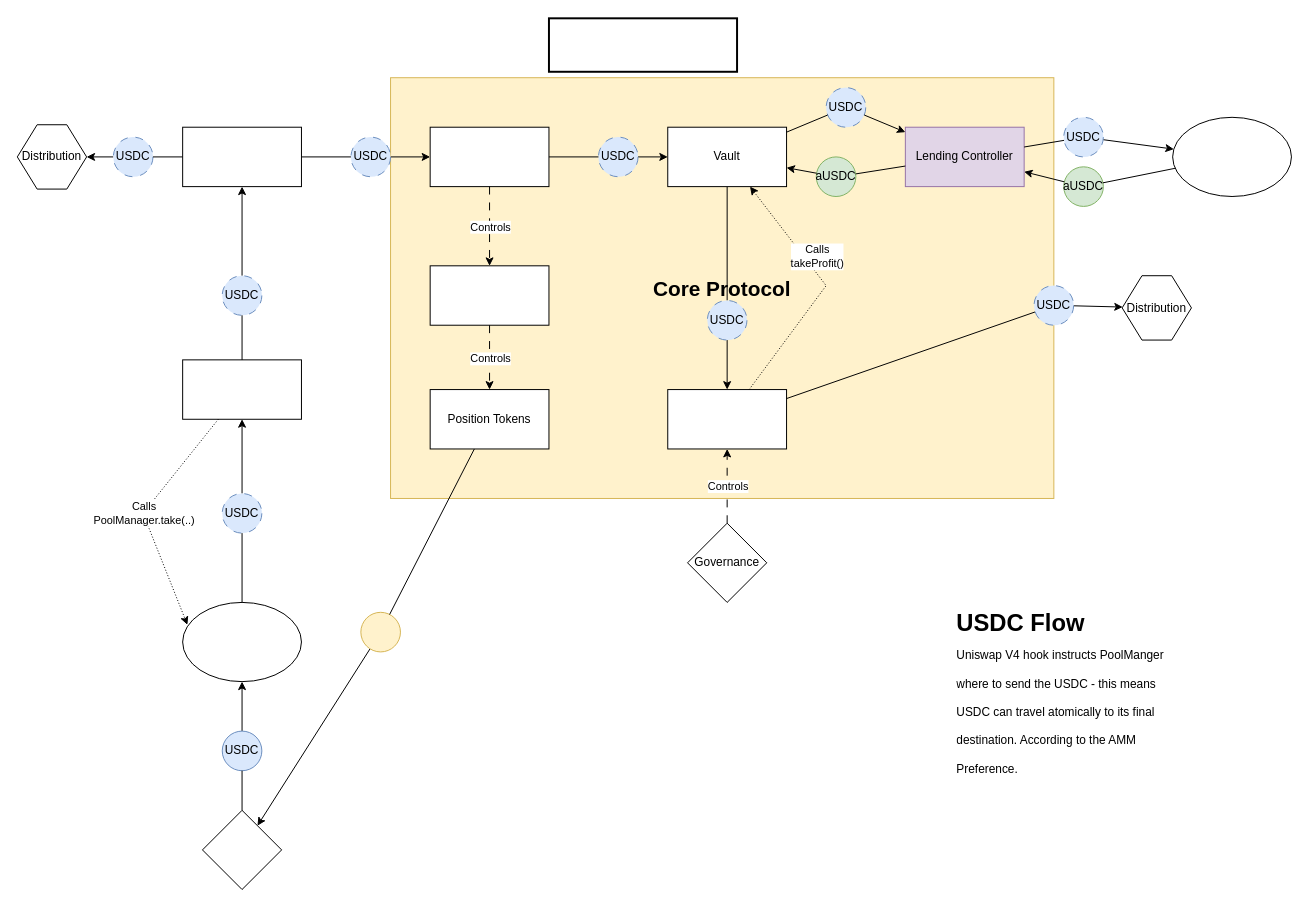
Image size: 1309x907. Some labels were removed from this diagram. The shapes that lost their labels are listed below. From the top down, each one's centre as x and y in pixels, then its label:
[642,44]: PredictionPerps - Purchasing a position
[241,156]: AMMs
[489,156]: Ledger
[1231,156]: Aave*
[489,295]: Token Manager
[241,389]: Uniswap V4 Hook
[727,419]: Revenue Bucket
[241,641]: Uniswap PoolManager
[380,631]: Position
[241,849]: User
